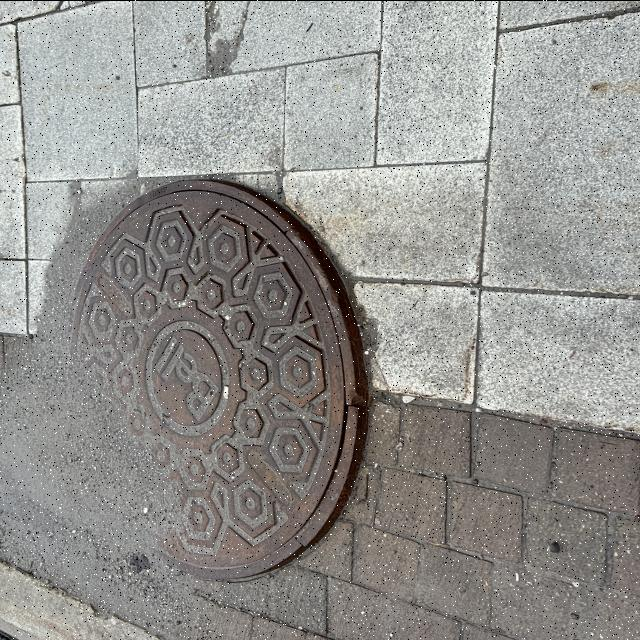Manhole: (67, 177, 374, 574)
